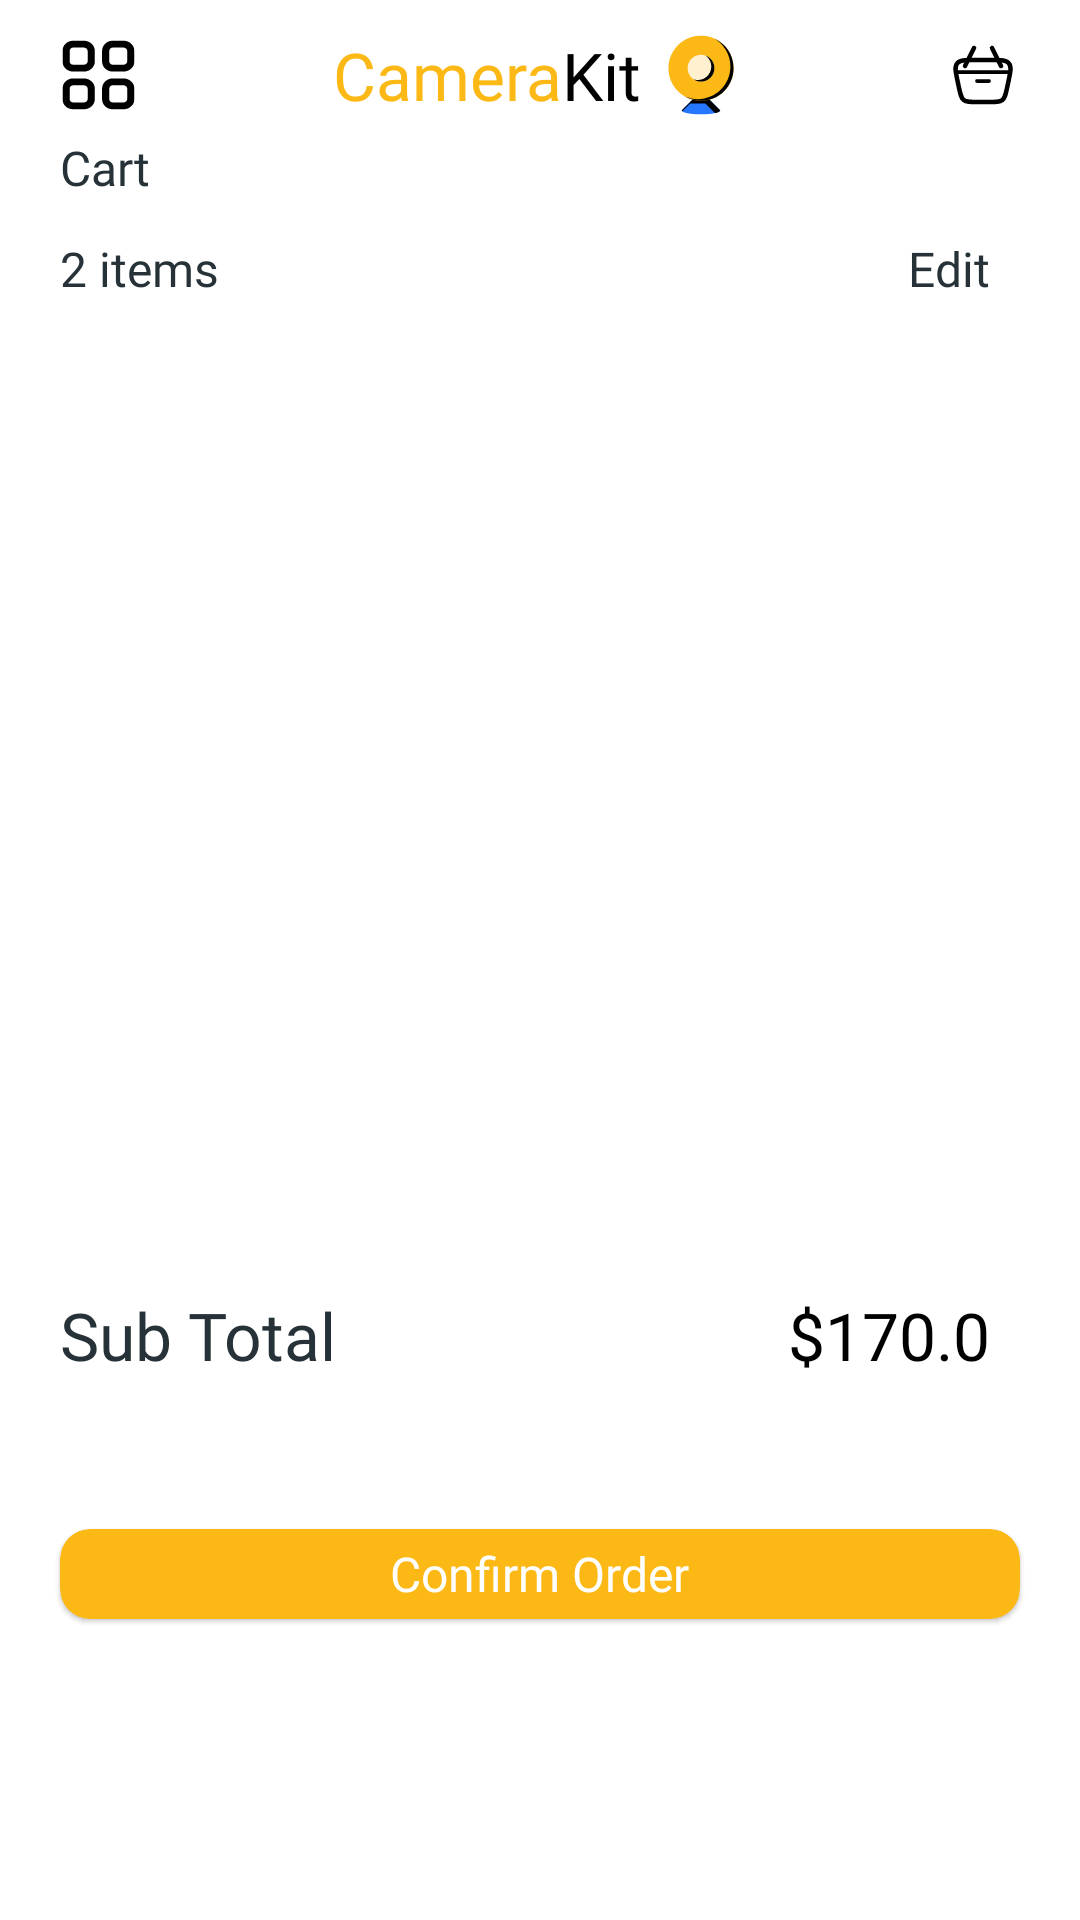

Icons on this 1080*1920 Android screen, each with its box as (x1, y1, x2, y2):
cart: (953, 45, 1013, 105)
menu: (62, 40, 135, 110)
